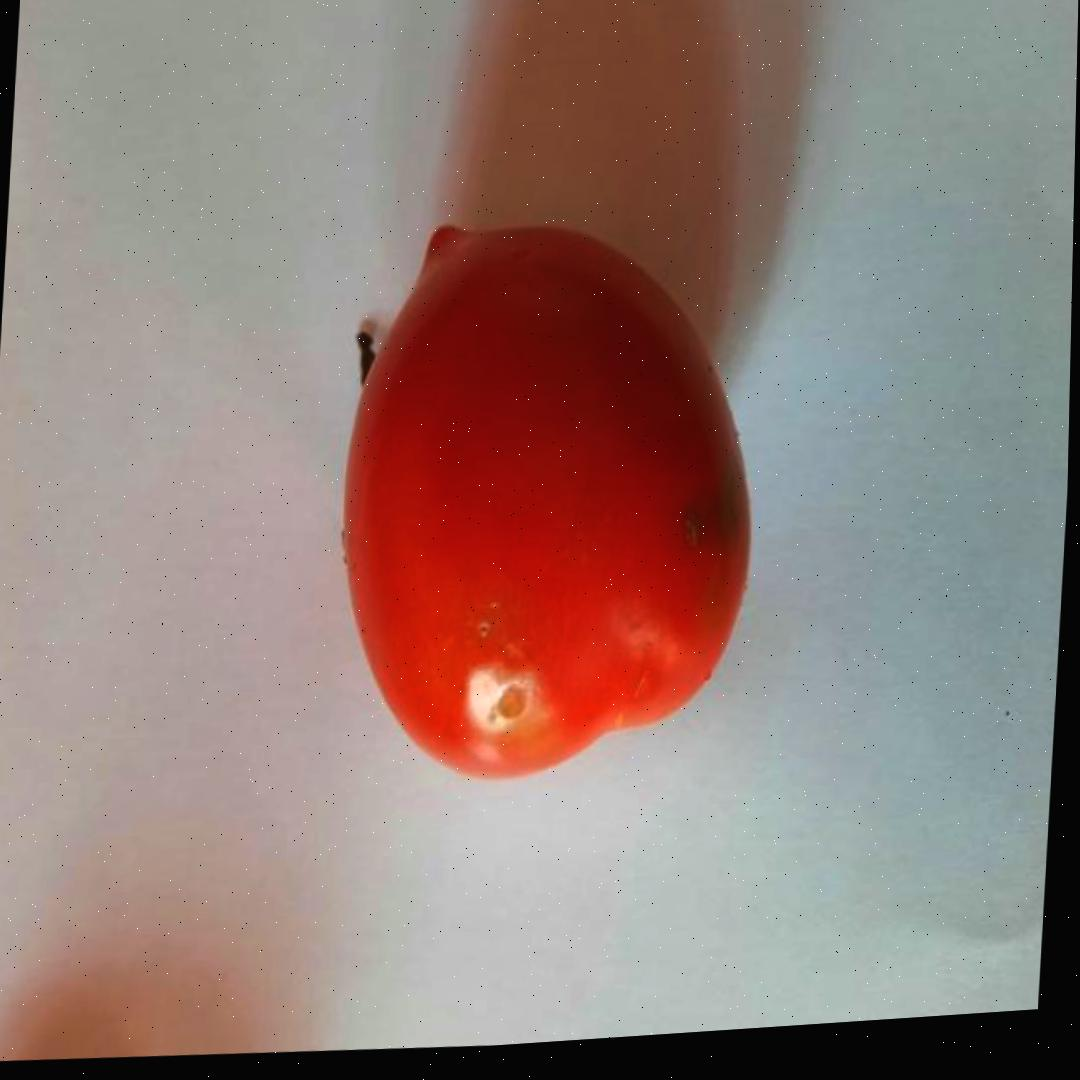matang: (319, 194, 769, 802)
